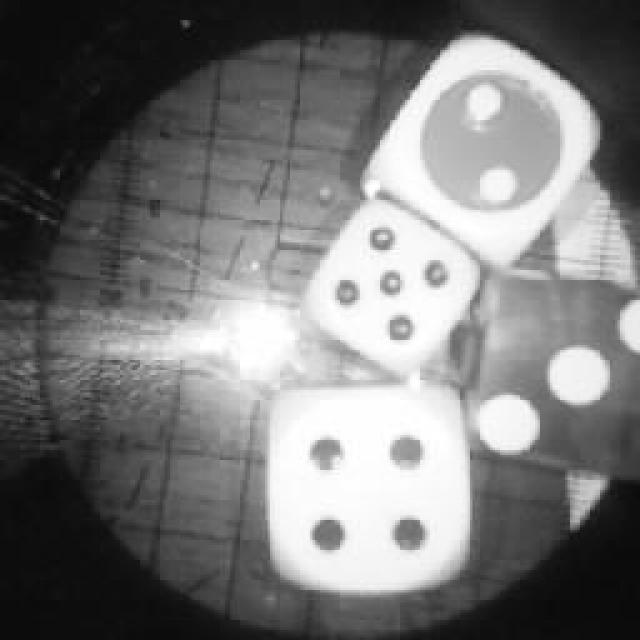dice_2: (363, 25, 605, 267), (298, 192, 482, 378)
dice_3: (472, 260, 640, 488)
dice_4: (255, 372, 480, 602)
